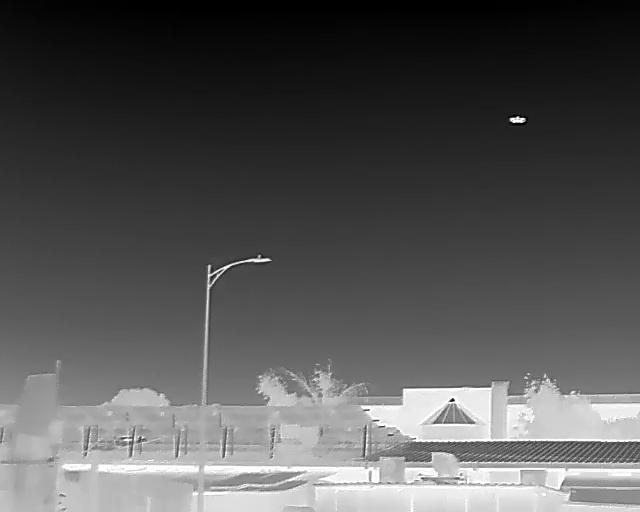fpv-drone: (509, 116, 526, 124)
